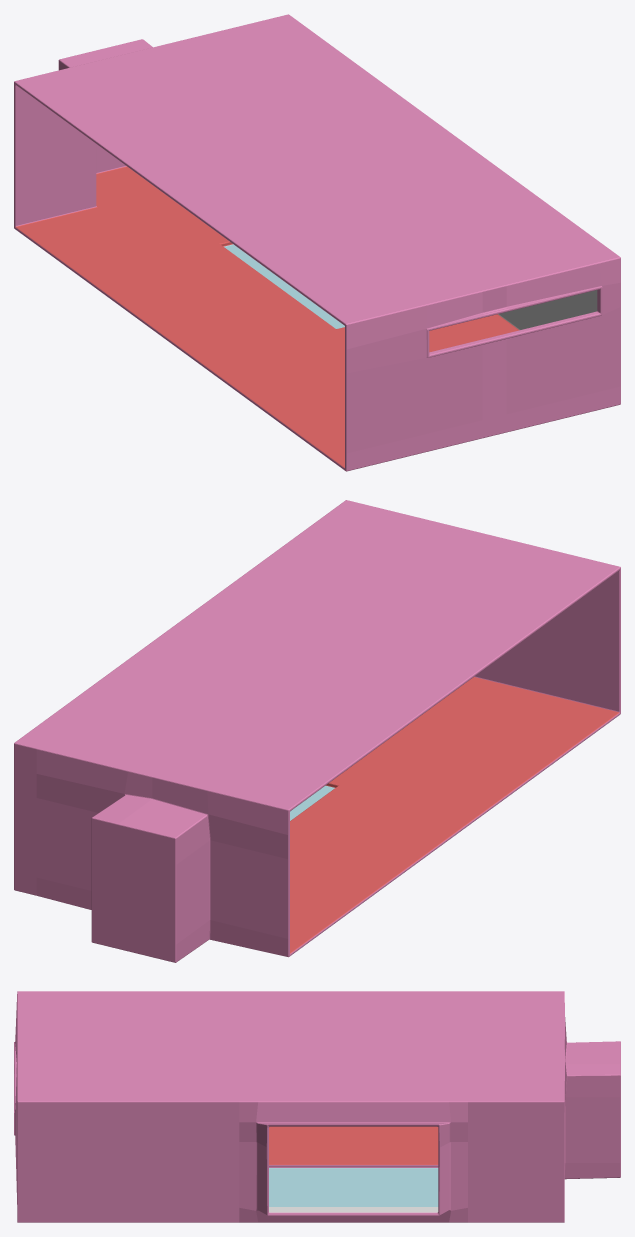
Rendered from Environment_Low 1.fbx.
3 views of the same model, one above another, from view 1: azimuth 30°, elevation 25°; view 2: azimuth 150°, elevation 25°; view 3: azimuth 270°, elevation 25° (orthographic). The views are drawn at different scales.
Visible parts, largest first — view 1: Cube.001; view 2: Cube.001; view 3: Cube.001.
Boxes of the visible parts, left/top/right/bottom form: Cube.001: left=14, top=14, right=620, bottom=471; Cube.001: left=14, top=500, right=620, bottom=962; Cube.001: left=14, top=991, right=620, bottom=1222.
Bounding box in the file's own units: 425 × 213 × 941.
